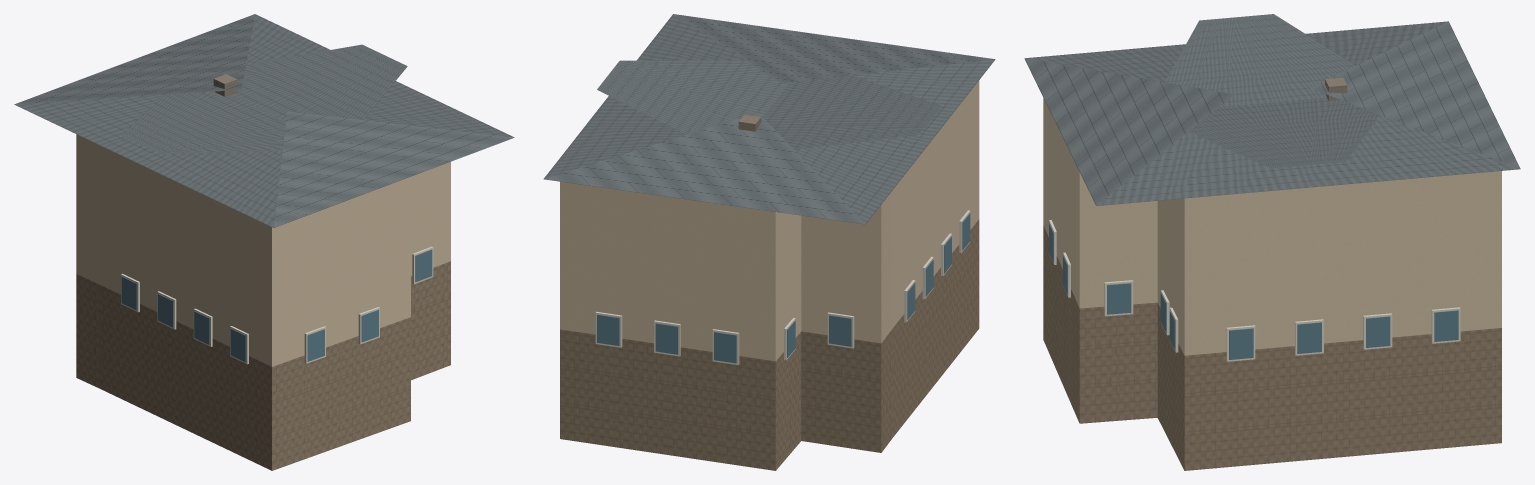
Rendered from core_0137.gltf.
The picture shows the model from 3 angles, left to right: view 1: azimuth 30°, elevation 25°; view 2: azimuth 150°, elevation 25°; view 3: azimuth 270°, elevation 25°; orthographic projection. The views are drawn at different scales.
Parts seen in each view (by area): view 1: core_0137; view 2: core_0137; view 3: core_0137.
Boxes of the visible parts, box(x1,y1,x2,y2) form: core_0137: box(14, 14, 514, 470); core_0137: box(543, 14, 995, 470); core_0137: box(1024, 14, 1520, 470).
Size of the model in its own units: 17.54 by 13.45 by 19.92.
6 materials, 6 textured.
